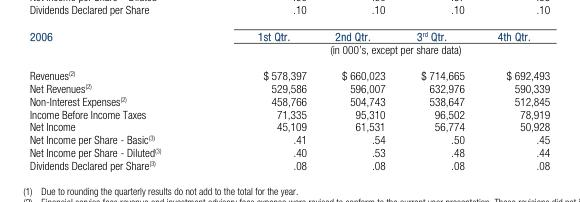table: (28, 29, 549, 171)
table column: (28, 29, 208, 171), (208, 29, 320, 171), (320, 29, 400, 171), (400, 29, 480, 171), (480, 29, 549, 171)
table column header: (28, 29, 549, 61)
table row: (28, 61, 549, 81), (28, 42, 549, 61), (28, 29, 549, 42), (28, 81, 549, 94), (28, 106, 549, 119), (28, 119, 549, 132), (28, 132, 549, 145), (28, 145, 549, 158), (28, 158, 549, 171), (28, 94, 549, 106)
table spanning cell: (208, 42, 549, 61), (28, 29, 208, 61)
